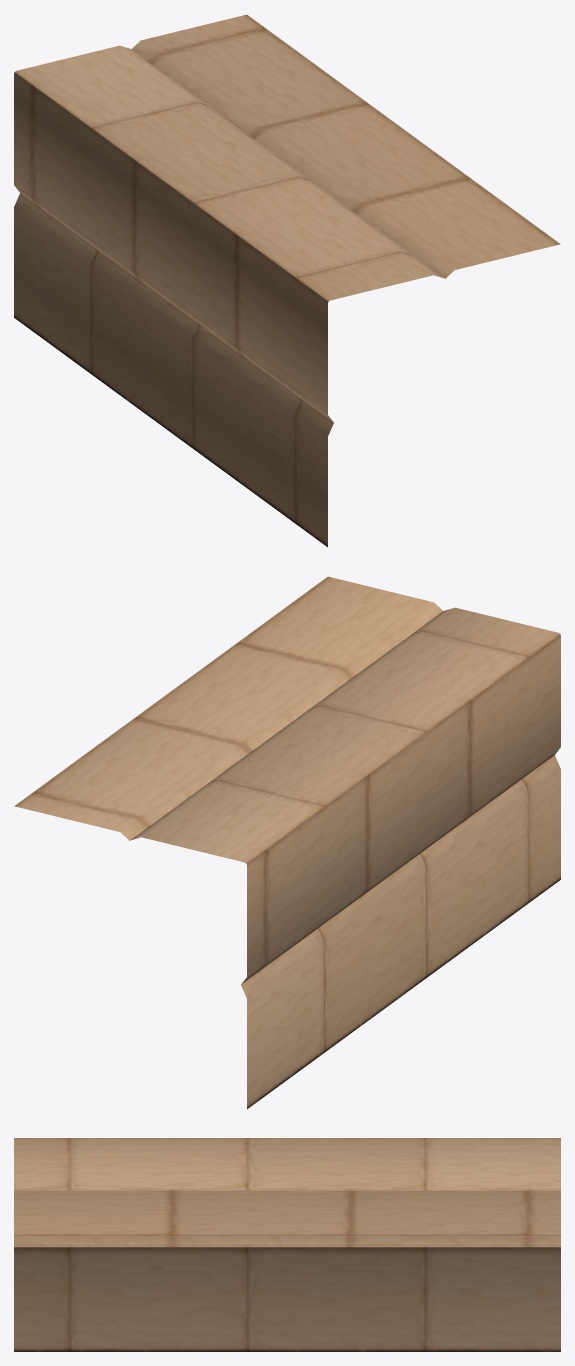
The model's file is Temple_DanceWallRim.fbx.
The picture shows the model from 3 angles, top to bottom: view 1: azimuth 30°, elevation 25°; view 2: azimuth 150°, elevation 25°; view 3: azimuth 270°, elevation 25°; orthographic projection. The views are drawn at different scales.
Parts seen in each view (by area): view 1: Cube_004__2_.008; view 2: Cube_004__2_.008; view 3: Cube_004__2_.008.
Part boxes in pixels (bbox=[...]): Cube_004__2_.008: bbox=[14, 14, 560, 547]; Cube_004__2_.008: bbox=[14, 576, 560, 1109]; Cube_004__2_.008: bbox=[14, 1138, 560, 1351].
Bounding box in the file's own units: 1086 × 1097 × 2534.
